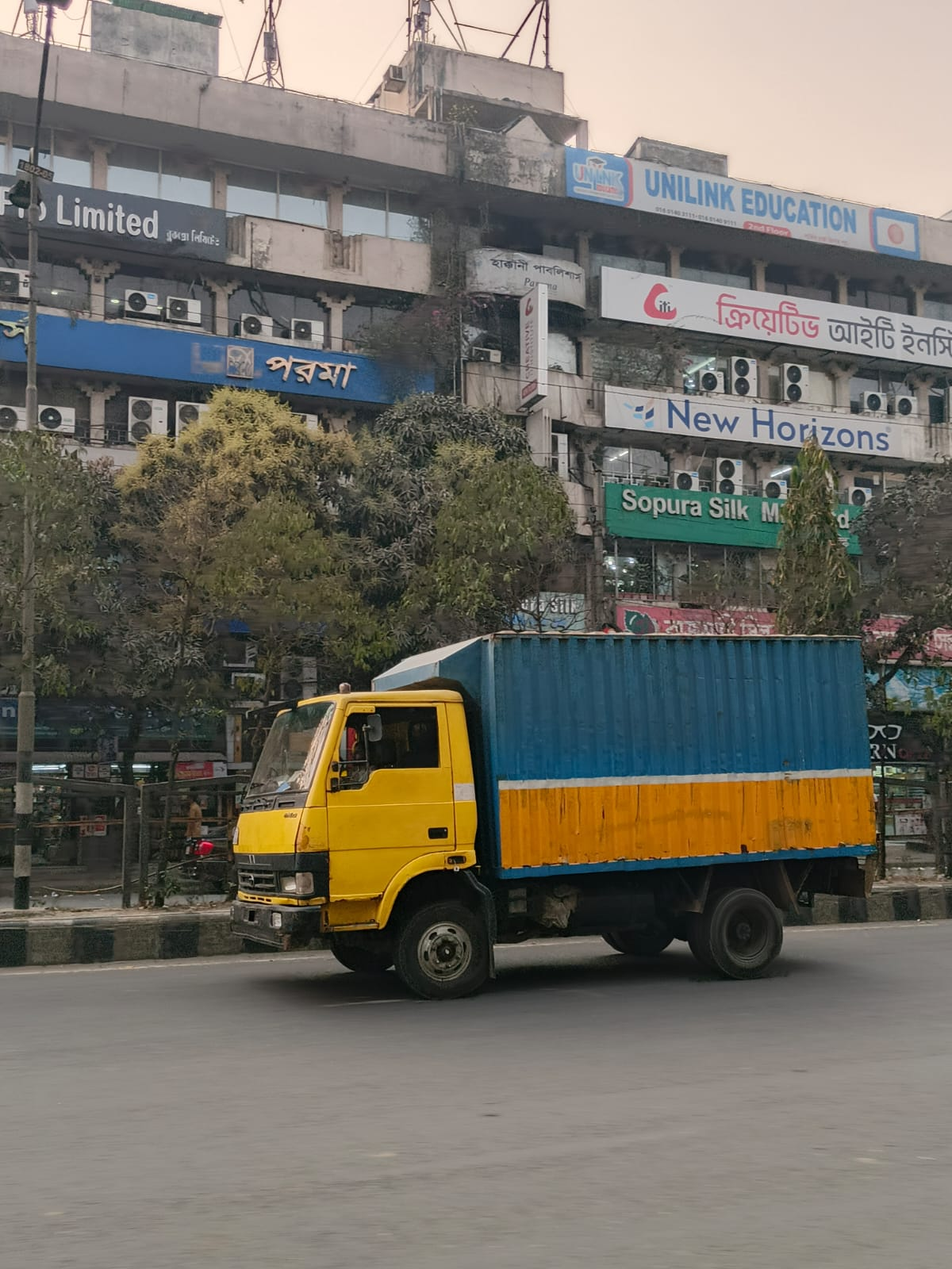Truck: (210, 596, 889, 1015)
